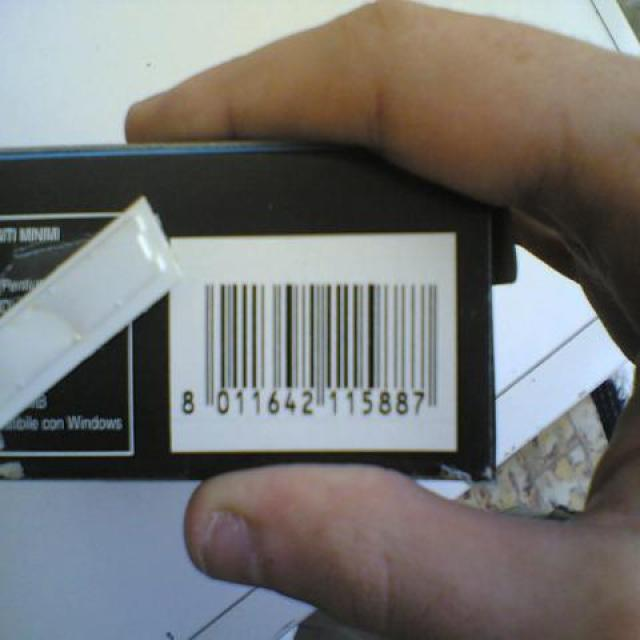Barcode: (170, 232, 458, 452)
